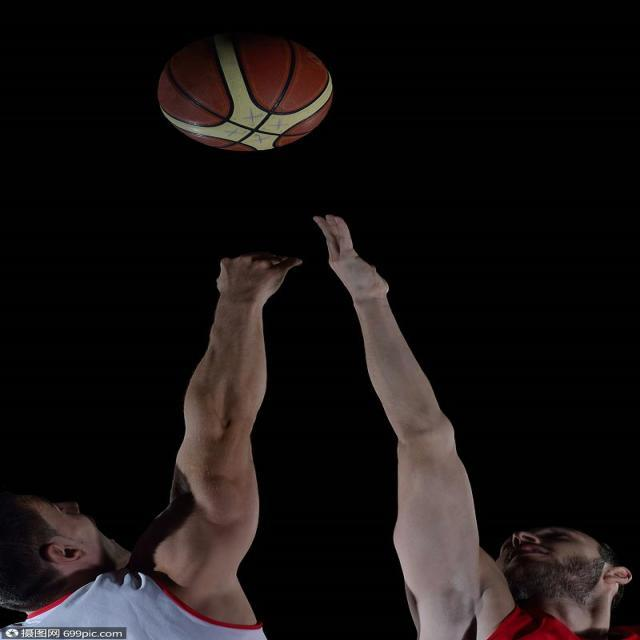rim: (154, 32, 336, 154)
